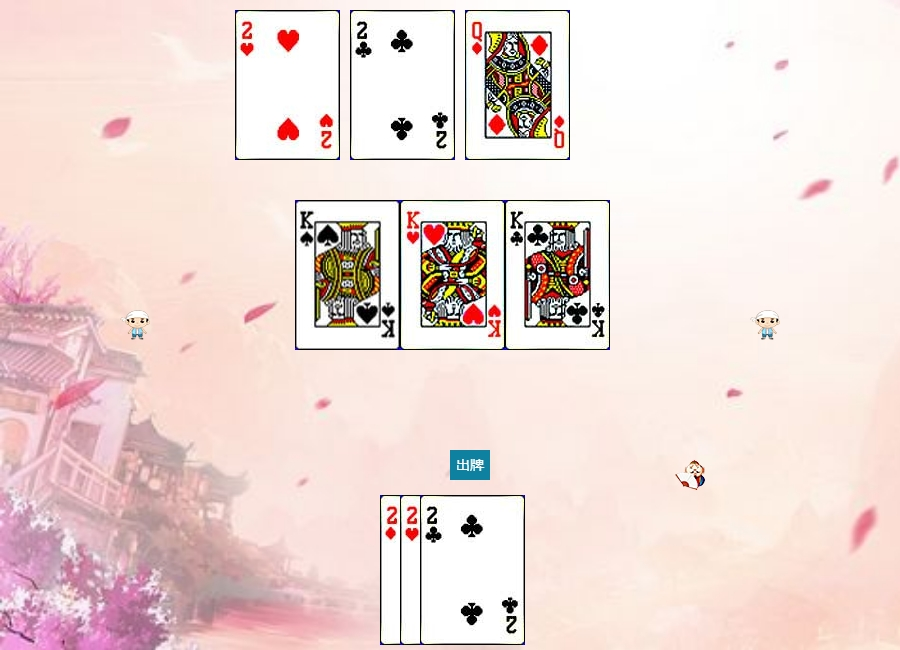12~1: (465, 10, 570, 160)
13~2: (505, 200, 610, 350)
13~3: (400, 200, 505, 350)
13~4: (295, 200, 400, 350)
15~1: (380, 495, 485, 645)
15~2: (350, 10, 455, 160), (420, 495, 525, 645)
15~3: (235, 10, 340, 160), (400, 495, 505, 645)
